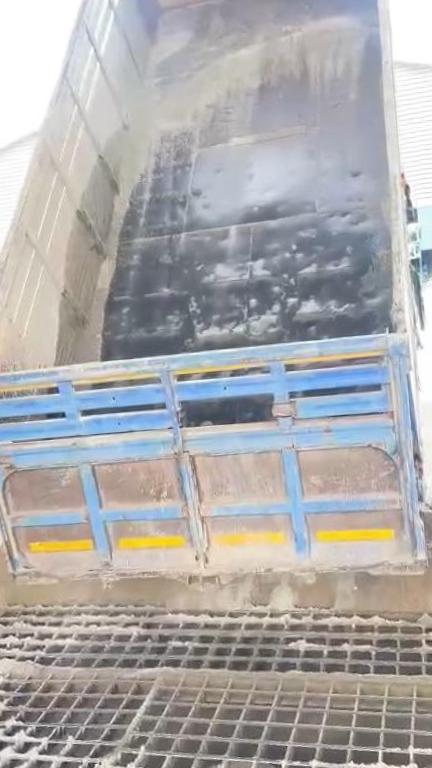sand: (75, 16, 370, 357), (0, 445, 421, 616), (0, 653, 432, 691), (25, 725, 132, 768), (426, 481, 432, 569)
